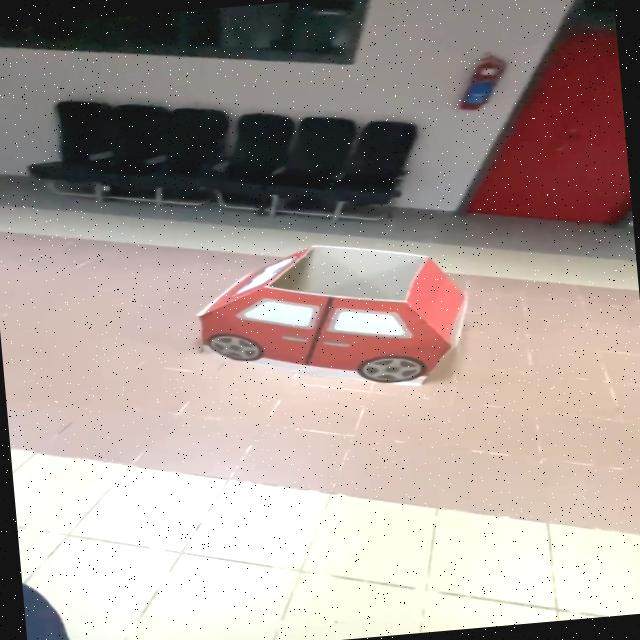red_car: (150, 213, 532, 422)
